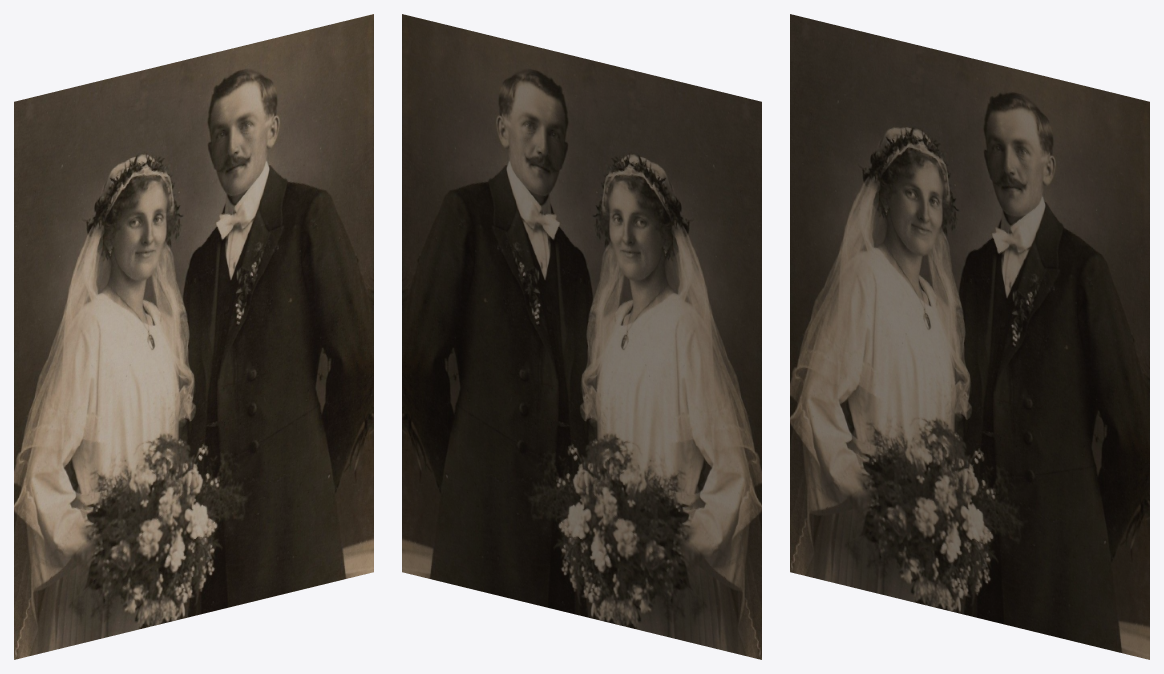
Rendered from FinalPainting.glb.
The picture shows the model from 3 angles, left to right: view 1: azimuth 30°, elevation 25°; view 2: azimuth 150°, elevation 25°; view 3: azimuth 330°, elevation 25°; orthographic projection.
Visible parts, largest first — view 1: Part3, Part4, Part2, Part6, Part5, Part1; view 2: Part3, Part4, Part2, Part6, Part5, Part1; view 3: Part3, Part4, Part2, Part6, Part5, Part1.
Part boxes in pixels (<box>): Part3: <box>89,105,373,369</box>; Part4: <box>14,223,223,659</box>; Part2: <box>14,60,183,379</box>; Part6: <box>14,402,373,659</box>; Part5: <box>194,336,373,571</box>; Part1: <box>152,14,373,178</box>; Part3: <box>402,105,686,369</box>; Part4: <box>552,223,761,659</box>; Part2: <box>592,60,761,379</box>; Part6: <box>402,402,761,659</box>; Part5: <box>402,336,581,571</box>; Part1: <box>402,14,623,178</box>; Part3: <box>865,133,1149,457</box>; Part4: <box>790,237,999,571</box>; Part2: <box>790,14,959,324</box>; Part6: <box>790,410,1148,659</box>; Part5: <box>970,341,1149,659</box>; Part1: <box>928,55,1149,236</box>.
Bounding box in the file's own units: 9.27 × 13.74 × 3.55e-15.
Materials: 1 (1 with a texture image).
